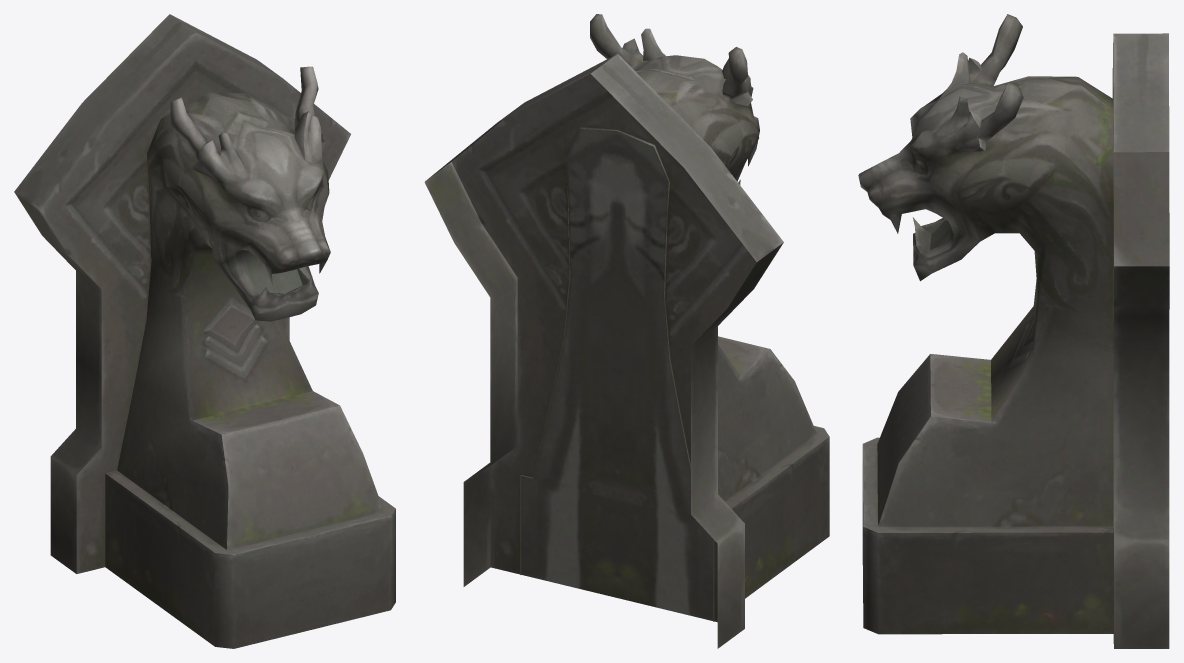
Rendered from cj_luoyang_longtou02_55_35_7465out.fbx.
3 renders of one model, left to right at view 1: azimuth 30°, elevation 25°; view 2: azimuth 150°, elevation 25°; view 3: azimuth 270°, elevation 25°, orthographic. The views are drawn at different scales.
Parts seen in each view (by area): view 1: cj_luoyang_longtou02; view 2: cj_luoyang_longtou02; view 3: cj_luoyang_longtou02.
Boxes of the visible parts, x1,y1,x2,y2 form: cj_luoyang_longtou02: (14, 14, 395, 648); cj_luoyang_longtou02: (424, 14, 829, 648); cj_luoyang_longtou02: (858, 14, 1169, 648).
Bounding box in the file's own units: 3.42 × 5.36 × 2.74.
